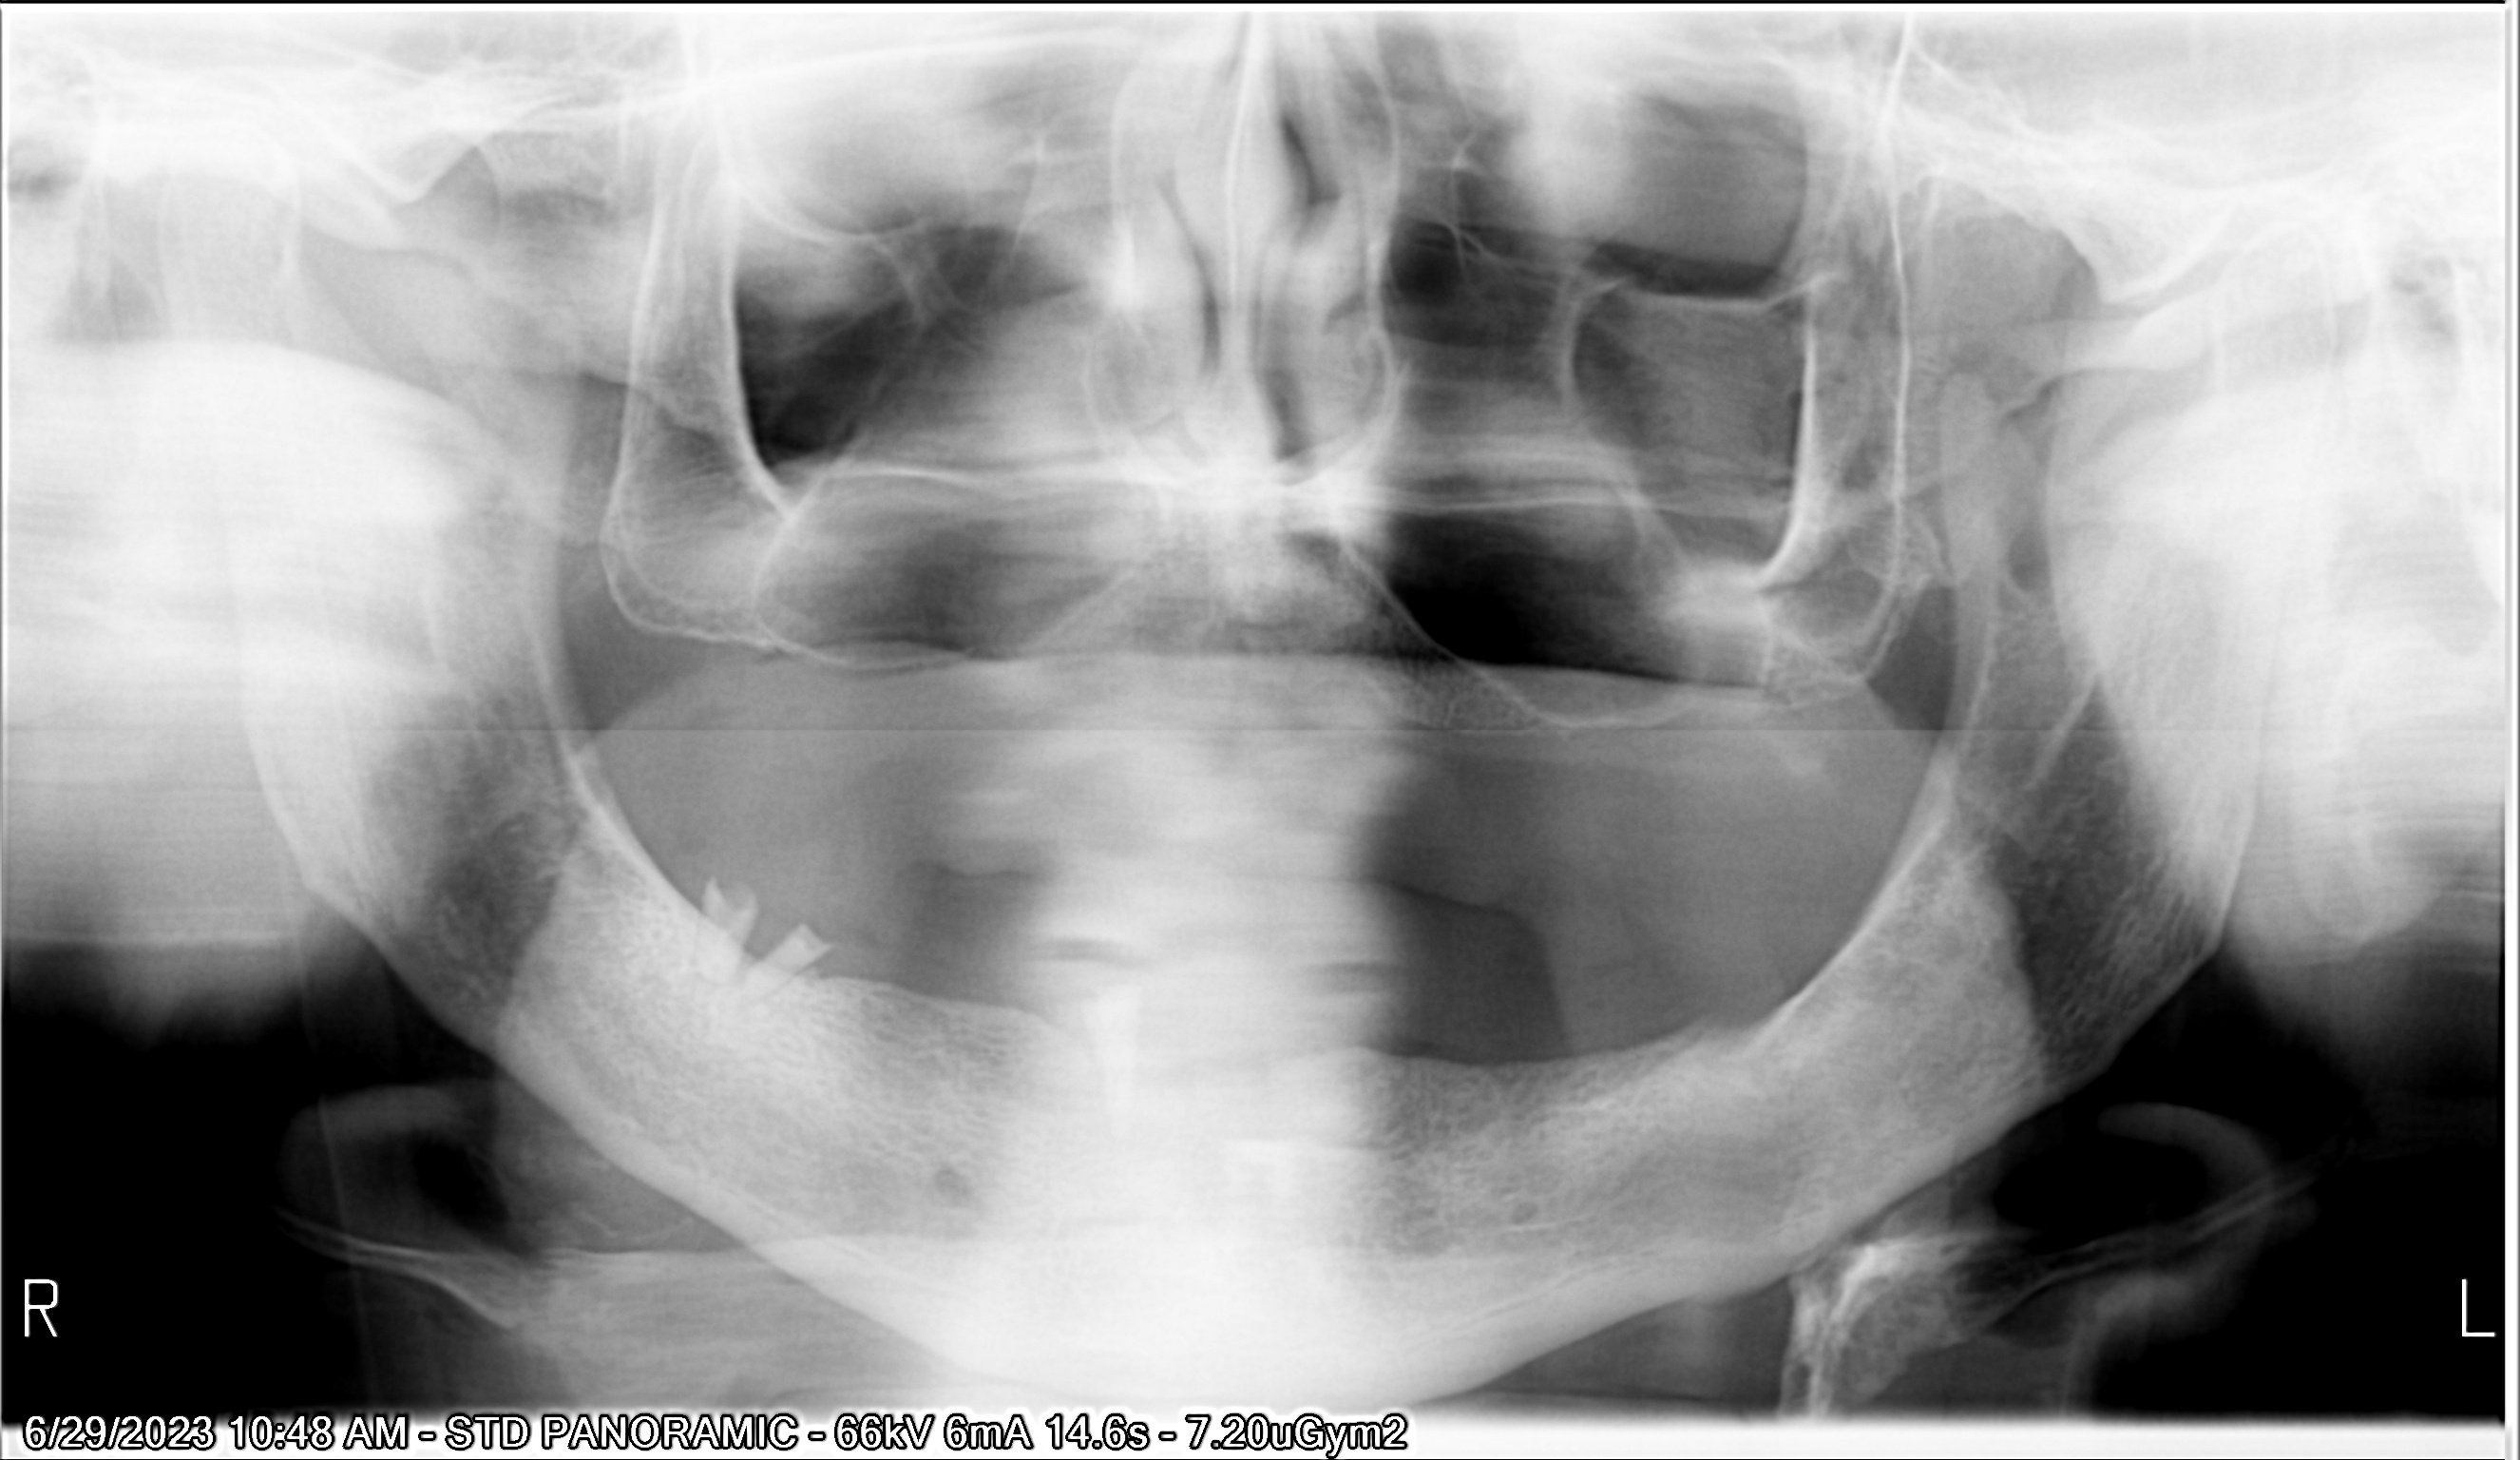ROT: (208, 342, 1124, 1378)
